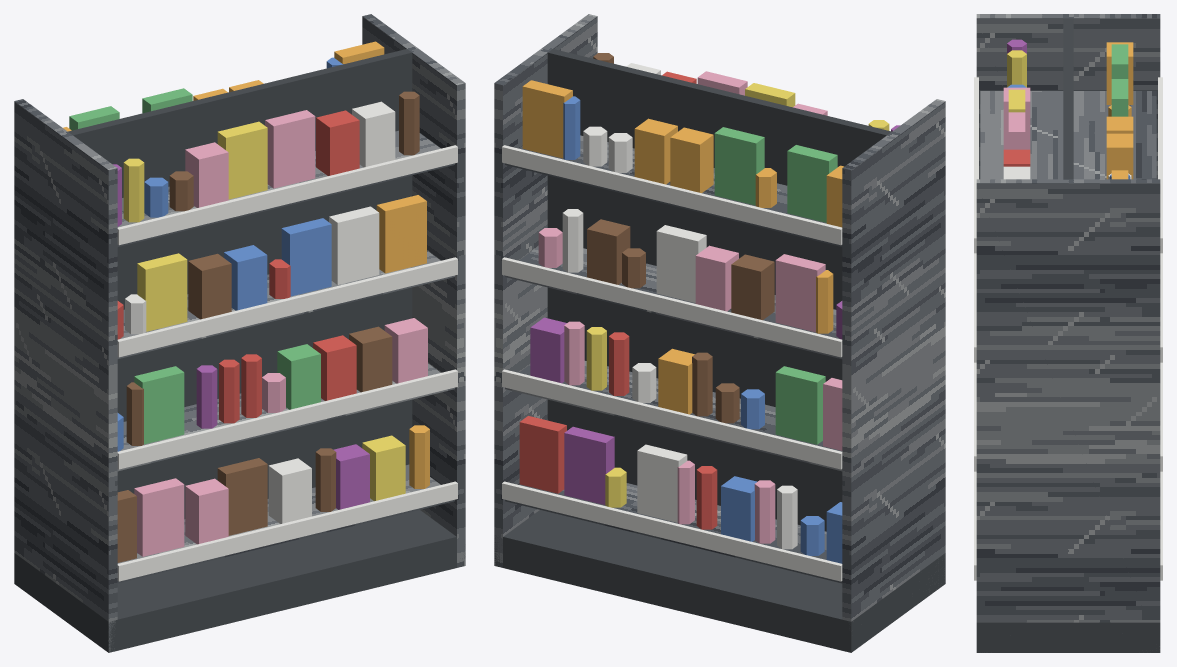
File: ST_Shelf.glb
3 views of the same model, side by side, from view 1: azimuth 30°, elevation 25°; view 2: azimuth 150°, elevation 25°; view 3: azimuth 270°, elevation 25° (orthographic). The views are drawn at different scales.
Visible parts, largest first — view 1: Shelf; view 2: Shelf; view 3: Shelf.
Boxes of the visible parts, x1=… form: Shelf: x1=14, y1=14, x2=465, y2=652; Shelf: x1=494, y1=14, x2=945, y2=652; Shelf: x1=974, y1=14, x2=1162, y2=652.
Bounding box in the file's own units: 1.2 × 1.55 × 0.565.
Materials: 11 (1 with a texture image).
